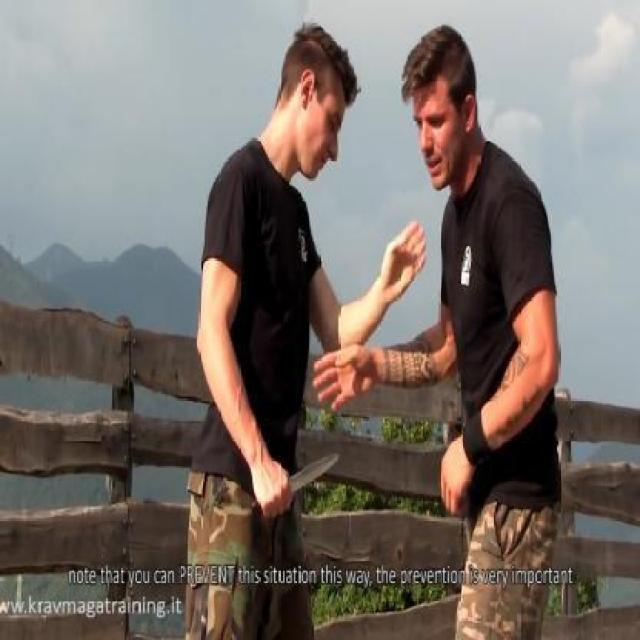knife: (248, 446, 344, 522)
